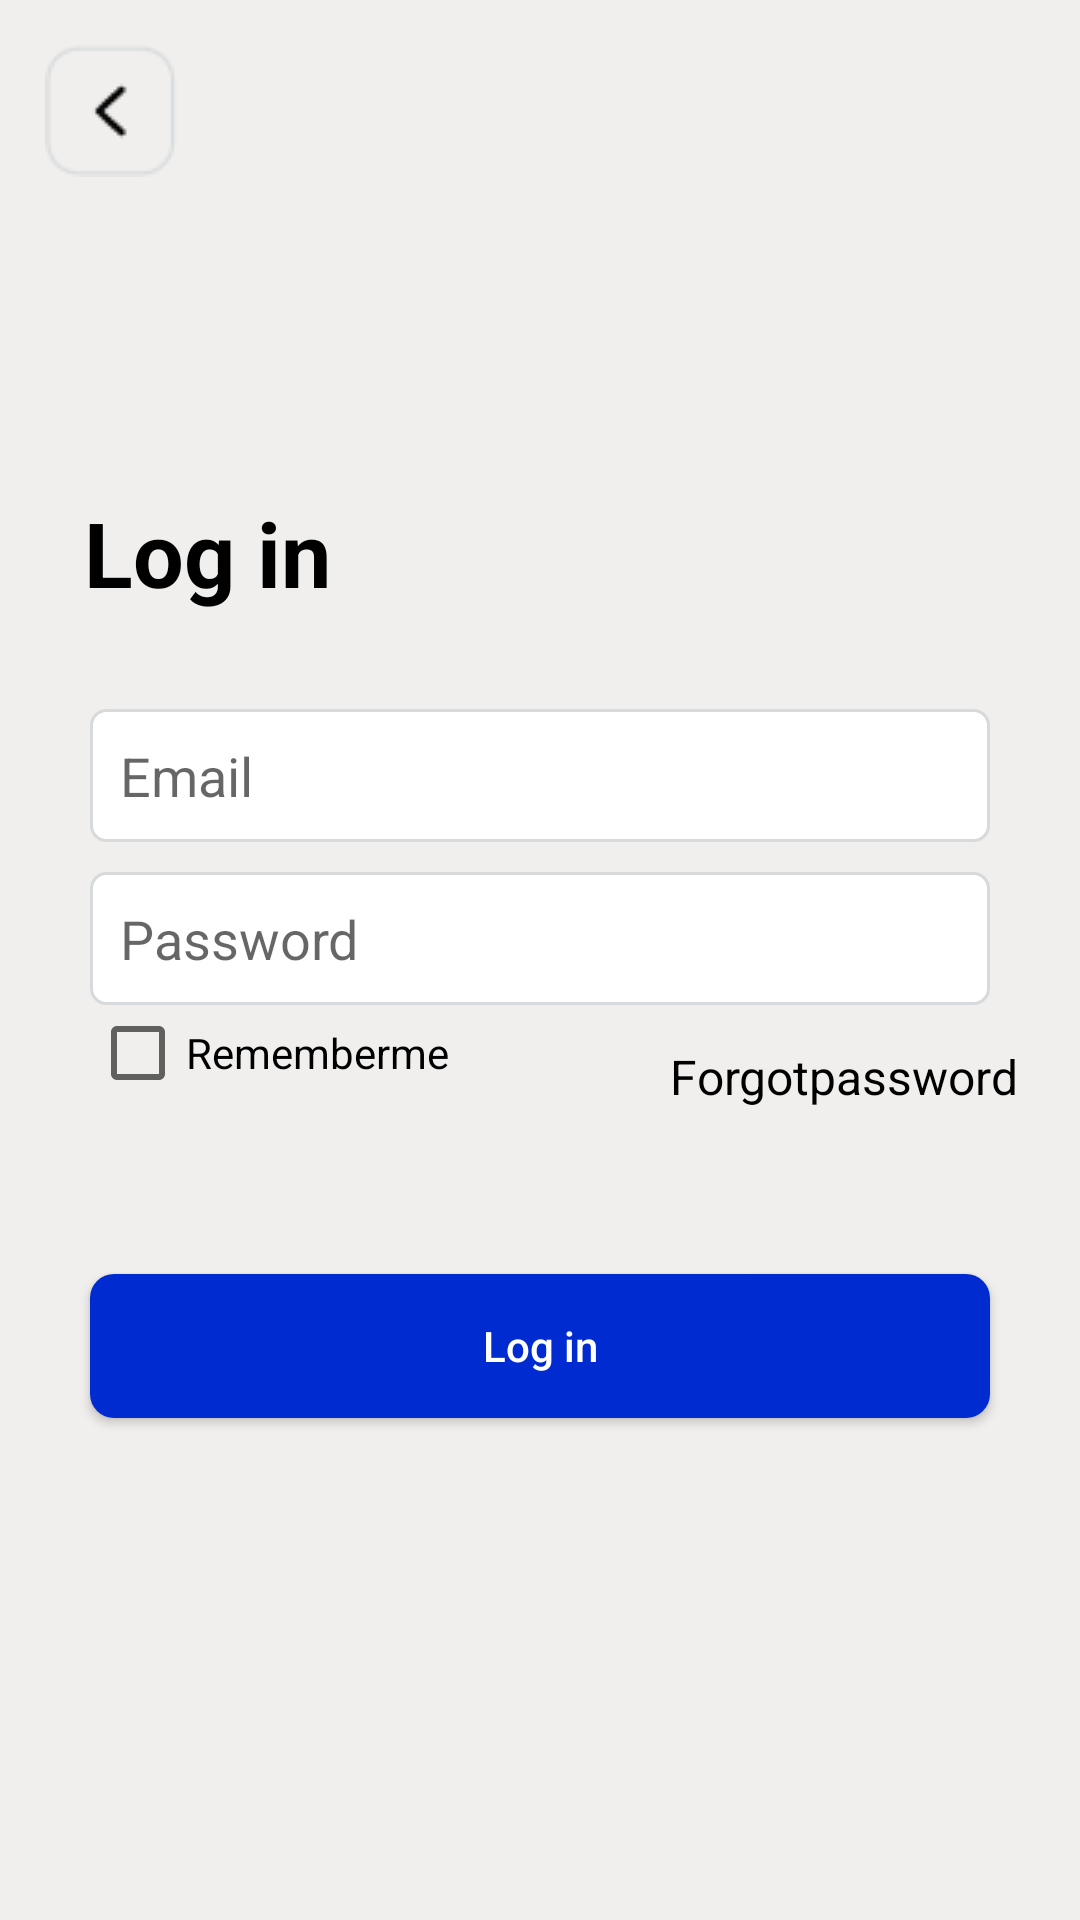

Point at icon controls on the screen. Image size 1080*1920, points as [x,y].
back: [111,111]
